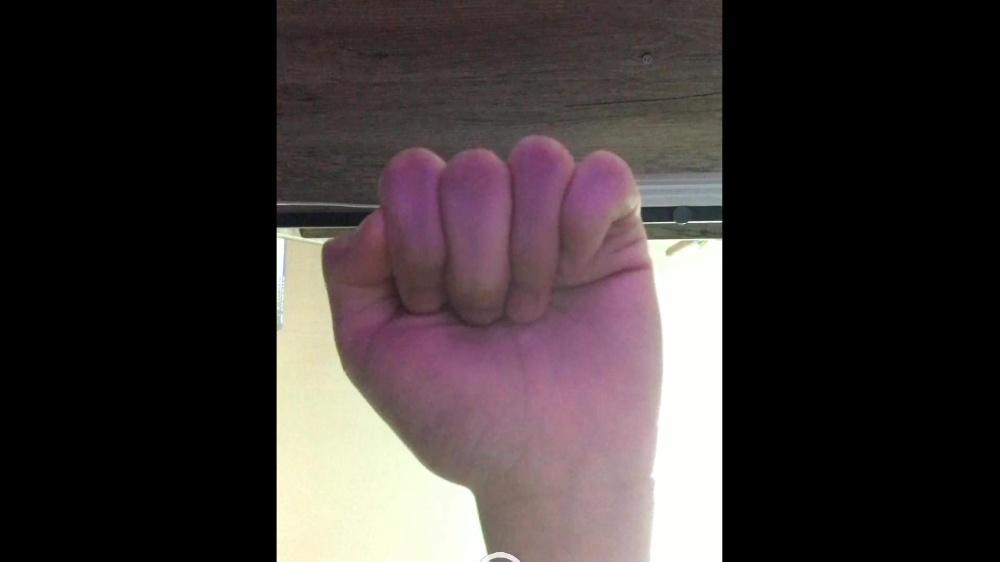a: (321, 133, 662, 463)
